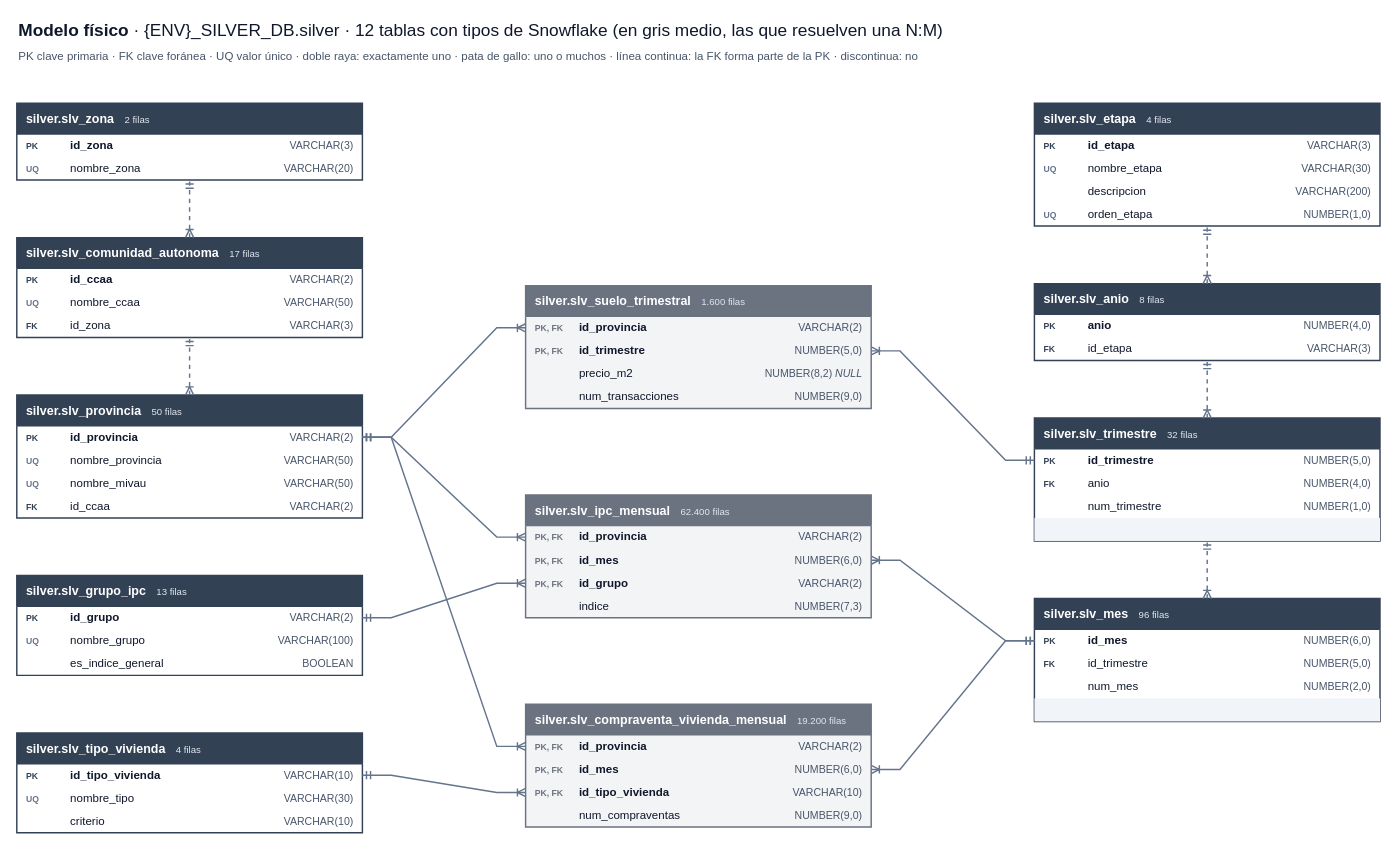
Image size: 1398x850. Some labels were removed from this diagram. The centre of each missing label's shape, as x and y in pixels:
"UQ (anio, num_trimestre)" belongs at point (1207, 528).
"UQ (id_trimestre, num_mes)" belongs at point (1207, 709).
